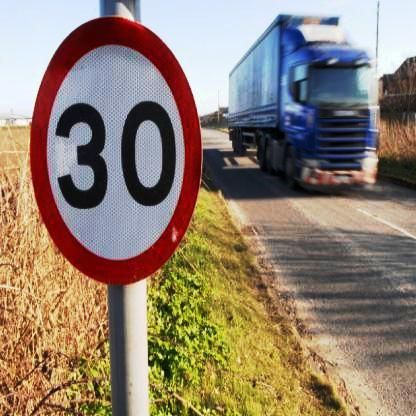Speed Limit -30-: (28, 8, 202, 286)
